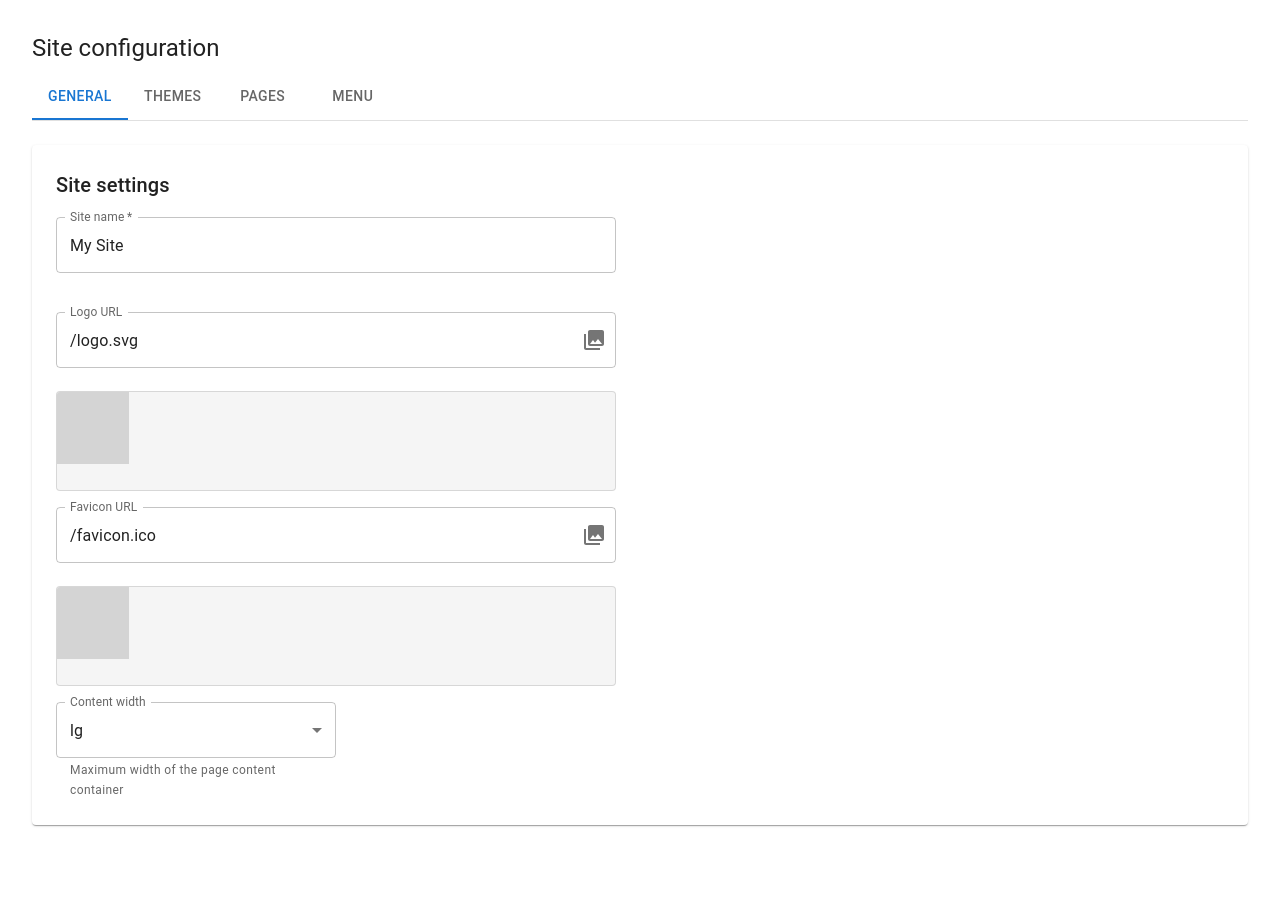
Test: SiteConfigPage › holds the write and flags the field when a URL is malformed
Expected: the field showing "My Site" is shown, [56,217,616,273]
Replace the text in the field labelled "Logo URL" with "not a url" at [311, 340], box [56,312,566,368]
Wait 850 ms
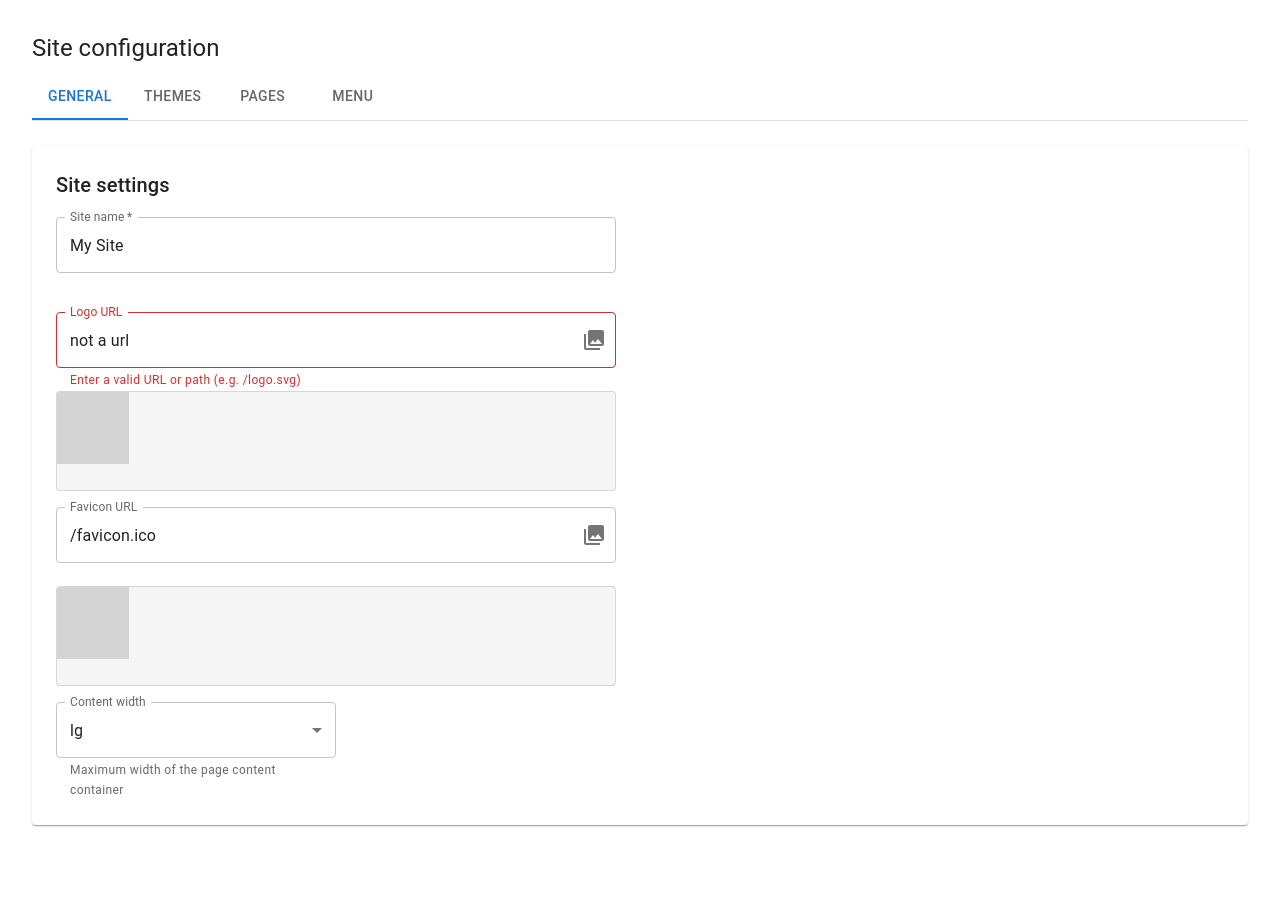
Expected: the text "Enter a valid URL or path (e.g. /logo.svg)" is shown, [70,373,301,387]
